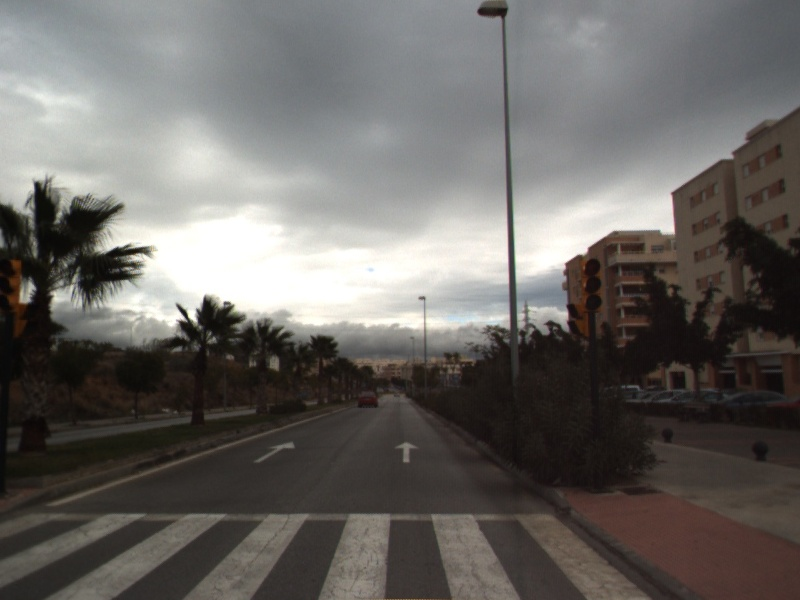STRAIGHT: (252, 440, 297, 464), (393, 439, 421, 465)
